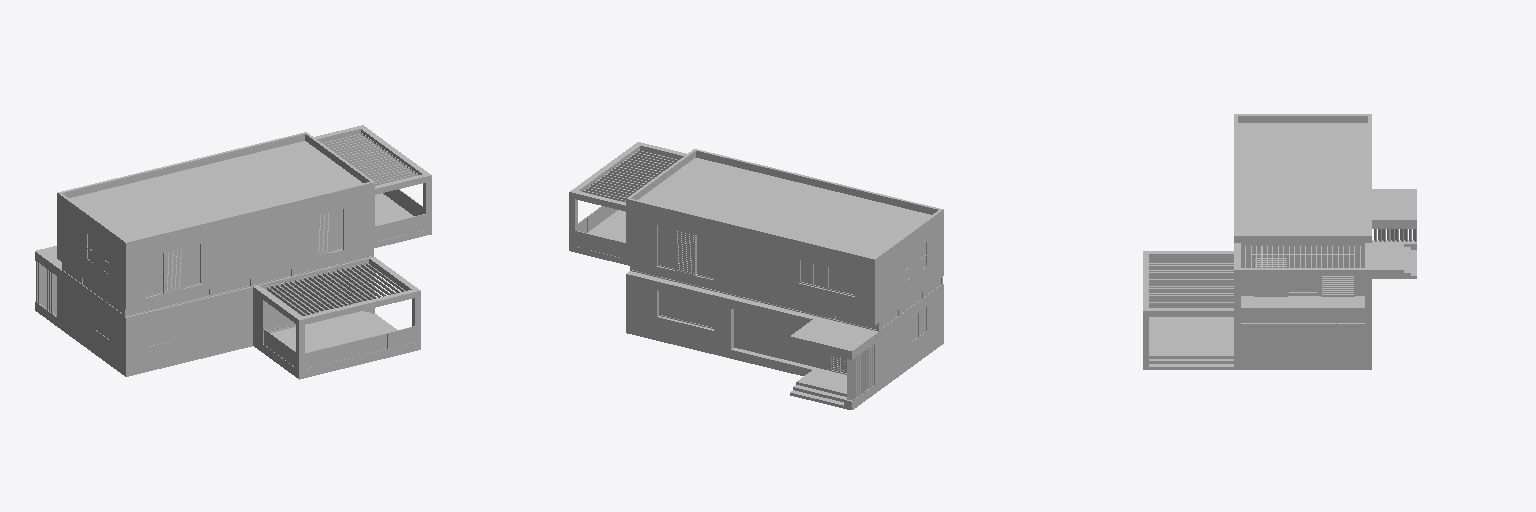
Rendered from Modern House_9_obj.obj.
3 views of the same model, side by side, from view 1: azimuth 30°, elevation 25°; view 2: azimuth 150°, elevation 25°; view 3: azimuth 270°, elevation 25° (orthographic).
Visible parts, largest first — view 1: WALL, ROOF, PERGOLA, FLOOR, WINDOW, RAIL, LOUVER, DOOR; view 2: WALL, ROOF, WINDOW, FLOOR, PERGOLA, LOUVER, RAIL; view 3: ROOF, WALL, FLOOR, PERGOLA, LOUVER, RAIL, DOOR, WINDOW.
Boxes of the visible parts, box(x1,y1,x2,y2) form: WALL: box(35, 132, 374, 367); ROOF: box(69, 141, 362, 240); PERGOLA: box(263, 125, 431, 370); FLOOR: box(35, 193, 431, 379); WINDOW: box(62, 209, 373, 347); RAIL: box(263, 189, 425, 368); LOUVER: box(36, 212, 329, 316); DOOR: box(269, 272, 350, 332); WALL: box(626, 149, 943, 384); ROOF: box(638, 158, 931, 257); WINDOW: box(630, 226, 942, 343); FLOOR: box(569, 210, 943, 409); PERGOLA: box(569, 142, 686, 246); LOUVER: box(675, 230, 873, 400); RAIL: box(575, 206, 625, 258); ROOF: box(1238, 123, 1367, 233); WALL: box(1215, 114, 1416, 360); FLOOR: box(1143, 240, 1416, 369); PERGOLA: box(1143, 243, 1371, 360); LOUVER: box(1252, 229, 1416, 296); RAIL: box(1241, 307, 1364, 323); DOOR: box(1255, 256, 1351, 295); WINDOW: box(1267, 330, 1299, 345).
Bounding box in the file's own units: 648 × 272 × 504.